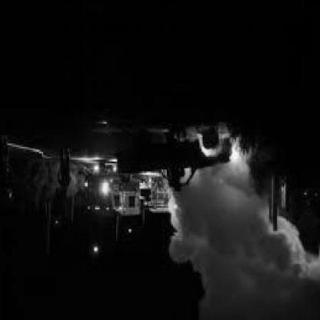Fire: (186, 130, 249, 184)
Smoke: (167, 188, 316, 318)
